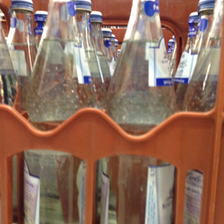water: (102, 1, 181, 224), (26, 2, 98, 224)
